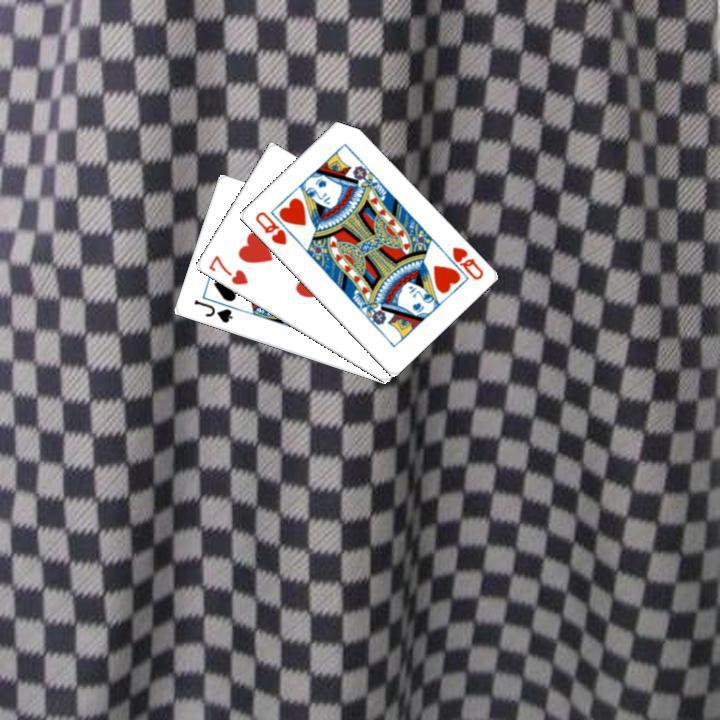7: (204, 251, 250, 287)
J: (189, 295, 234, 325)
Q: (436, 242, 485, 282), (250, 207, 288, 247)
